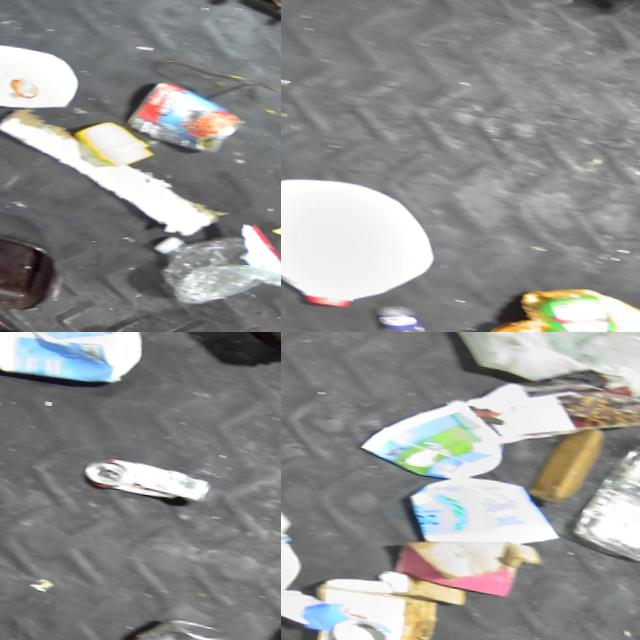can: (126, 71, 254, 154), (85, 448, 218, 503), (114, 602, 246, 640)
milk_jug: (281, 160, 453, 318), (426, 332, 640, 395)
plastic_bottle: (146, 217, 281, 319), (367, 295, 479, 332)
